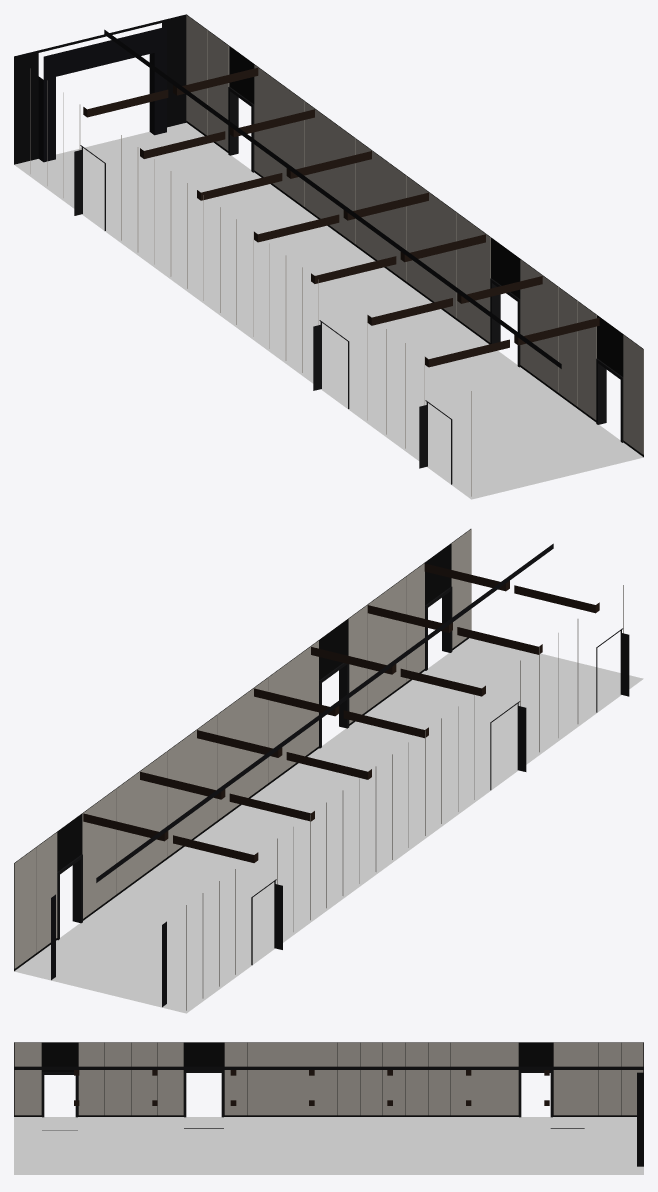
Rendered from gal.glb.
3 renders of one model, top to bottom at view 1: azimuth 30°, elevation 25°; view 2: azimuth 150°, elevation 25°; view 3: azimuth 270°, elevation 25°, orthographic. The views are drawn at different scales.
Parts seen in each view (by area): view 1: gal; view 2: gal; view 3: gal.
Part boxes in pixels (x1,y1,x2,y2): gal: (14, 14, 643, 499); gal: (14, 529, 643, 1013); gal: (14, 1042, 643, 1174).
Bounding box in the file's own units: 7.6 × 4.4 × 32.15.
